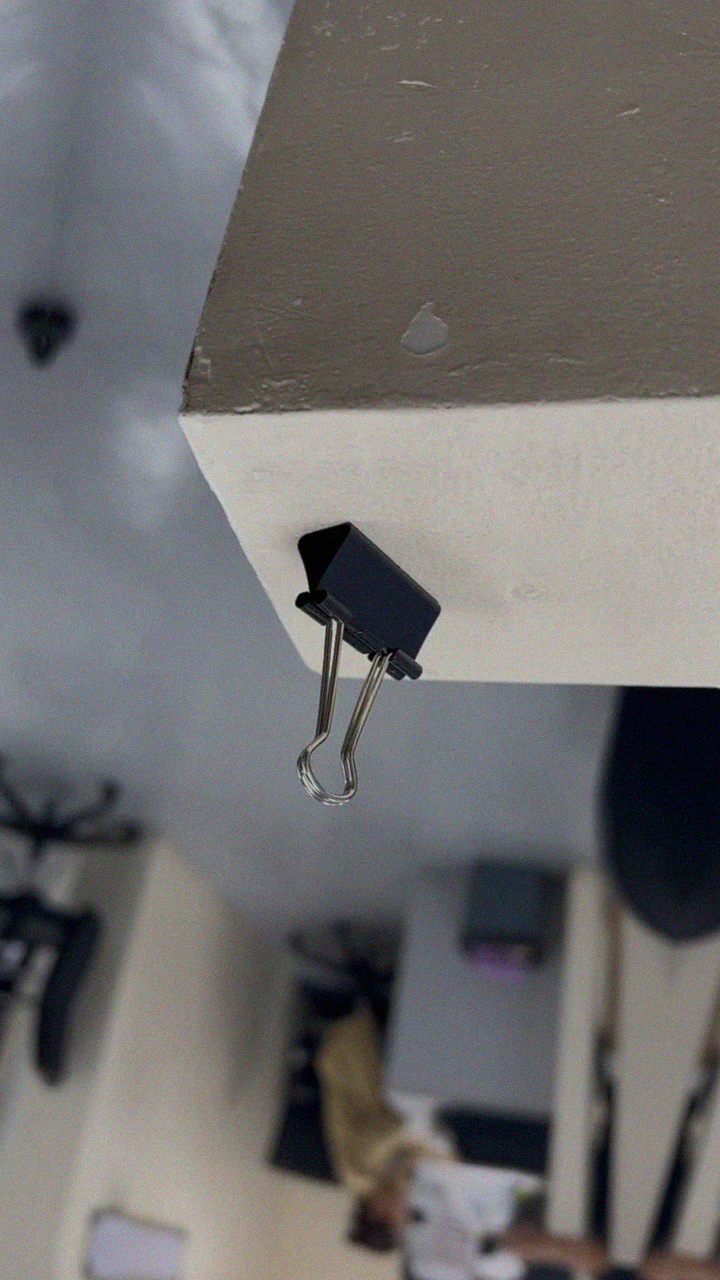kep_giay: (249, 509, 464, 821)
